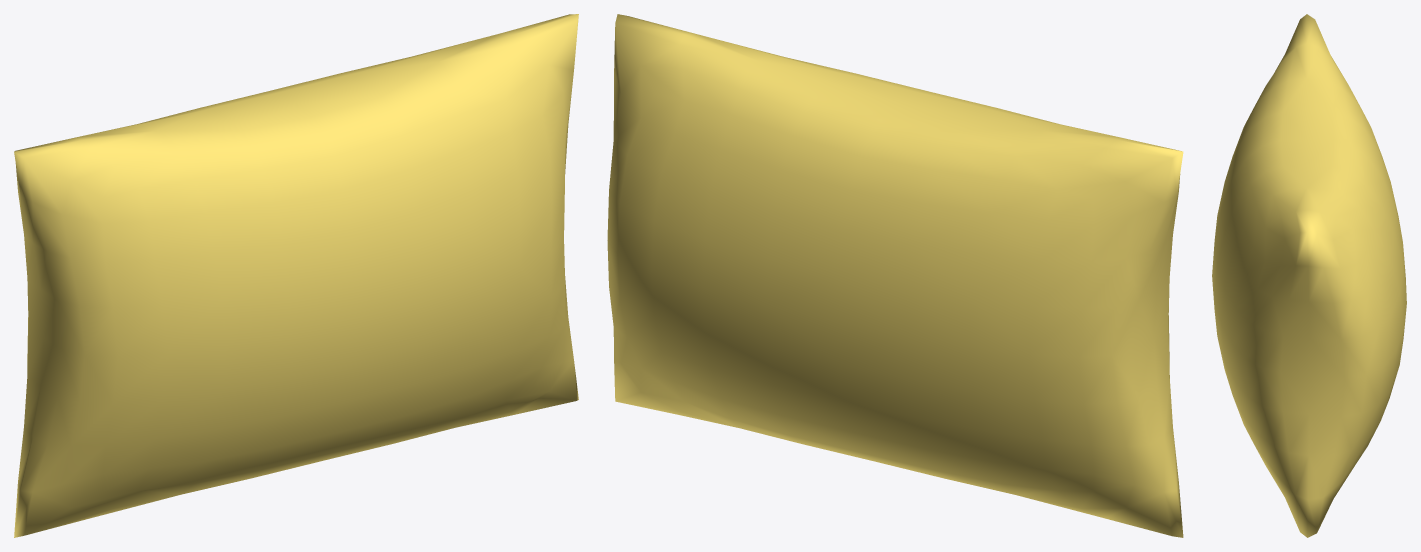
Rendered from Pillow_12.glb.
The picture shows the model from 3 angles, left to right: view 1: azimuth 30°, elevation 25°; view 2: azimuth 150°, elevation 25°; view 3: azimuth 270°, elevation 25°; orthographic projection. The views are drawn at different scales.
Parts seen in each view (by area): view 1: Pillow_12; view 2: Pillow_12; view 3: Pillow_12.
Boxes of the visible parts, x1,y1,x2,y2 form: Pillow_12: [14, 14, 578, 537]; Pillow_12: [607, 14, 1183, 537]; Pillow_12: [1212, 14, 1406, 537].
Size of the model in its own units: 0.5708 by 0.3725 by 0.2153.
1 material, 1 textured.
